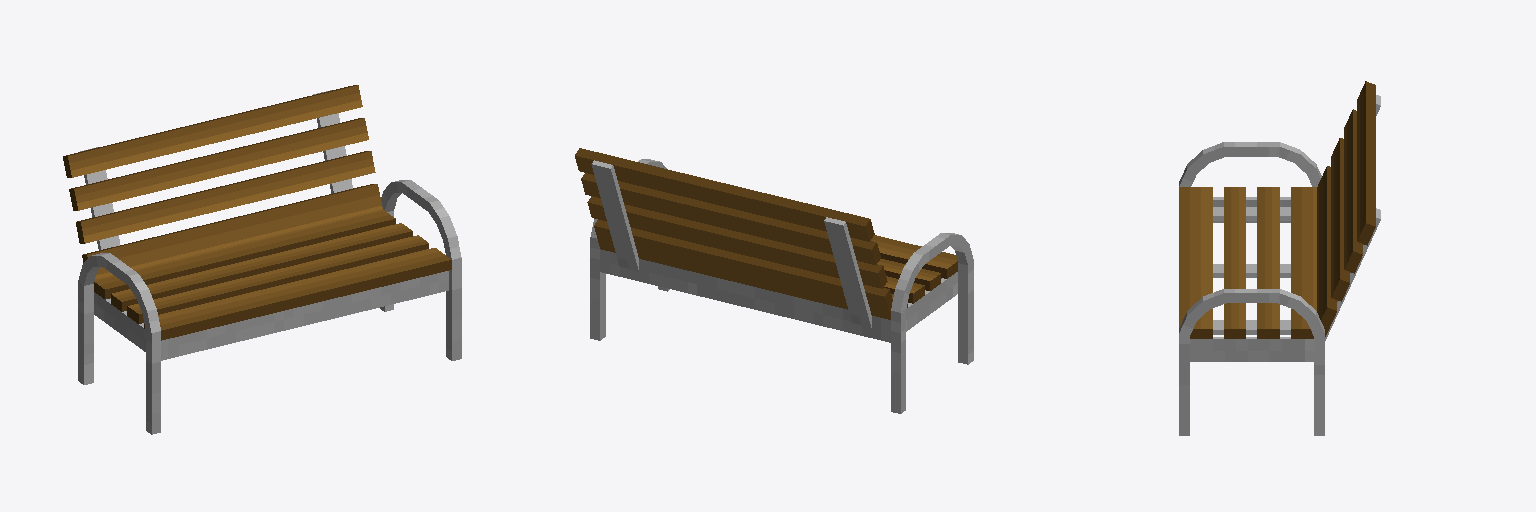
3 views of the same model, side by side, from view 1: azimuth 30°, elevation 25°; view 2: azimuth 150°, elevation 25°; view 3: azimuth 270°, elevation 25° (orthographic).
Parts seen in each view (by area): view 1: Object_30_Object_12.001, Object_28_Object_11.001, Object_72_Object_33.001, Object_74_Object_34.001, Object_70_Object_32.001, Object_24_Object_9.001, Object_66_Object_30.001, Object_68_Object_31.001, Object_64_Object_29.001, Object_20_Object_7.001, Object_6_Object_0.001, Object_52_Object_23.001 (+5 smaller); view 2: Object_28_Object_11.001, Object_74_Object_34.001, Object_56_Object_25.001, Object_70_Object_32.001, Object_72_Object_33.001, Object_32_Object_13.001, Object_62_Object_28.001, Object_6_Object_0.001, Object_20_Object_7.001, Object_50_Object_22.001, Object_30_Object_12.001, Object_26_Object_10.001 (+2 smaller); view 3: Object_30_Object_12.001, Object_66_Object_30.001, Object_64_Object_29.001, Object_68_Object_31.001, Object_74_Object_34.001, Object_54_Object_24.001, Object_28_Object_11.001, Object_72_Object_33.001, Object_70_Object_32.001, Object_52_Object_23.001, Object_50_Object_22.001, Object_22_Object_8.001 (+1 smaller).
Part boxes in pixels (x1,y1,x2,y2): Object_30_Object_12.001: (144,248,451,340); Object_28_Object_11.001: (82,184,382,278); Object_72_Object_33.001: (69,118,368,210); Object_74_Object_34.001: (63,85,362,177); Object_70_Object_32.001: (76,151,375,243); Object_24_Object_9.001: (161,271,448,360); Object_66_Object_30.001: (94,209,395,299); Object_68_Object_31.001: (127,235,428,323); Object_64_Object_29.001: (111,223,412,311); Object_20_Object_7.001: (78,280,93,384); Object_6_Object_0.001: (146,331,160,434); Object_52_Object_23.001: (446,258,461,360); Object_28_Object_11.001: (594,220,892,319); Object_74_Object_34.001: (575,148,874,241); Object_56_Object_25.001: (600,249,890,342); Object_70_Object_32.001: (587,196,887,288); Object_72_Object_33.001: (581,173,880,264); Object_32_Object_13.001: (824,217,871,328); Object_62_Object_28.001: (591,160,638,271); Object_6_Object_0.001: (958,260,973,364); Object_20_Object_7.001: (891,309,905,413); Object_50_Object_22.001: (590,237,605,340); Object_30_Object_12.001: (871,235,957,278); Object_26_Object_10.001: (906,272,957,331); Object_30_Object_12.001: (1179,187,1212,338); Object_66_Object_30.001: (1291,187,1316,338); Object_64_Object_29.001: (1257,187,1279,338); Object_68_Object_31.001: (1224,187,1245,338); Object_74_Object_34.001: (1357,81,1375,245); Object_54_Object_24.001: (1190,337,1313,361); Object_28_Object_11.001: (1317,166,1336,336); Object_72_Object_33.001: (1344,109,1362,273); Object_70_Object_32.001: (1331,138,1349,301); Object_52_Object_23.001: (1179,334,1189,435); Object_50_Object_22.001: (1314,334,1324,435); Object_22_Object_8.001: (1224,142,1279,156).
Size of the model in its own units: 2 by 1.28 by 1.13.
Materials: 1 (1 with a texture image).